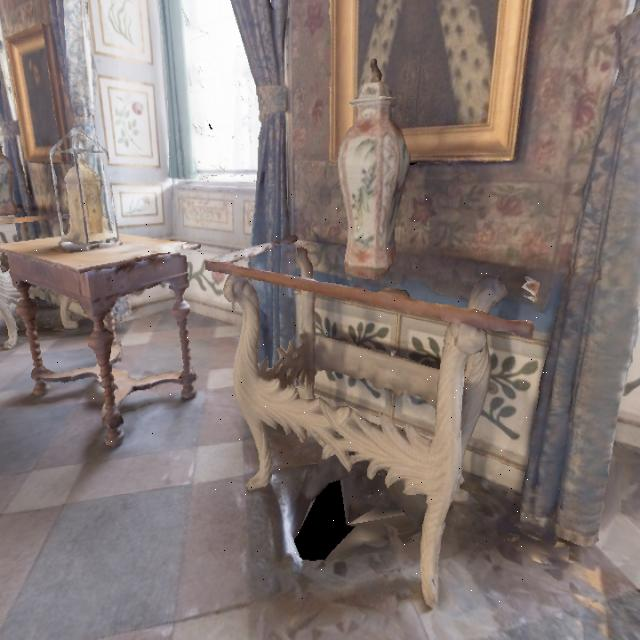table: (195, 187, 552, 608), (0, 202, 211, 445)
